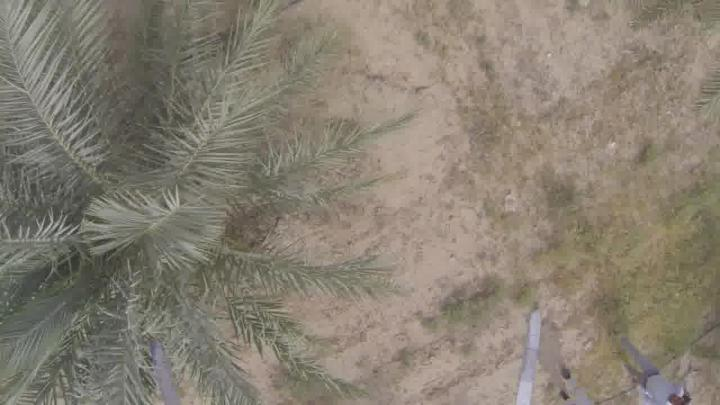Date-Palm-Crown: (0, 110, 240, 384)
